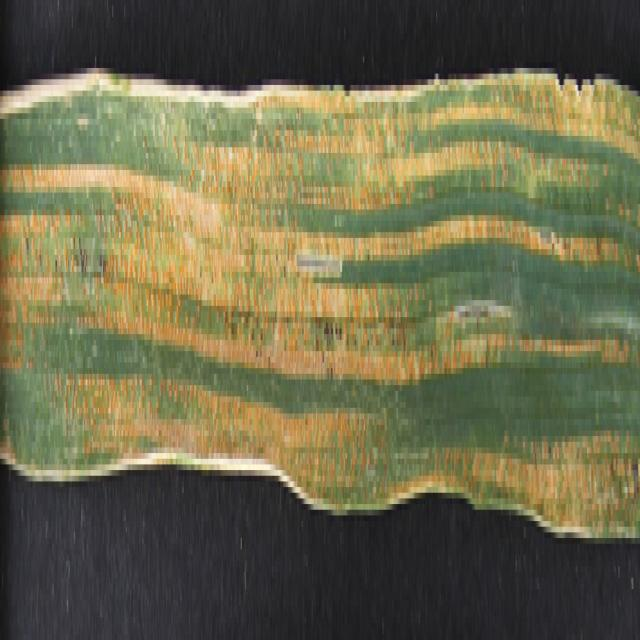leaf rust: (1, 57, 638, 521)
